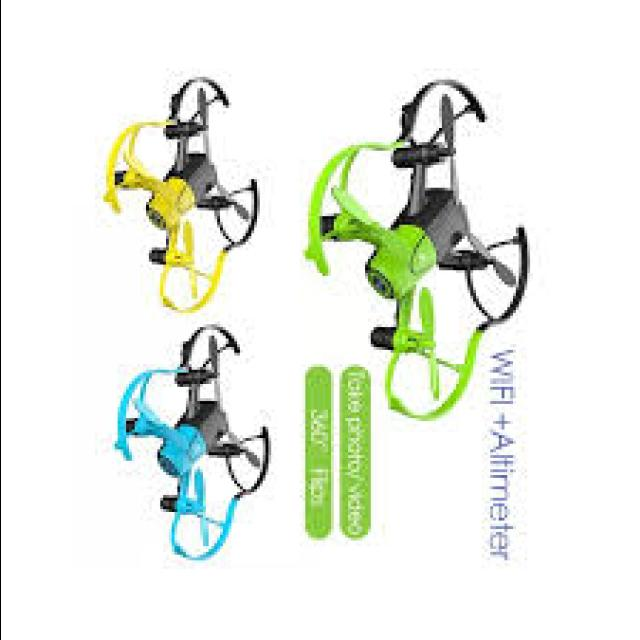drone: (314, 61, 542, 430), (92, 64, 282, 314), (110, 326, 266, 572)
